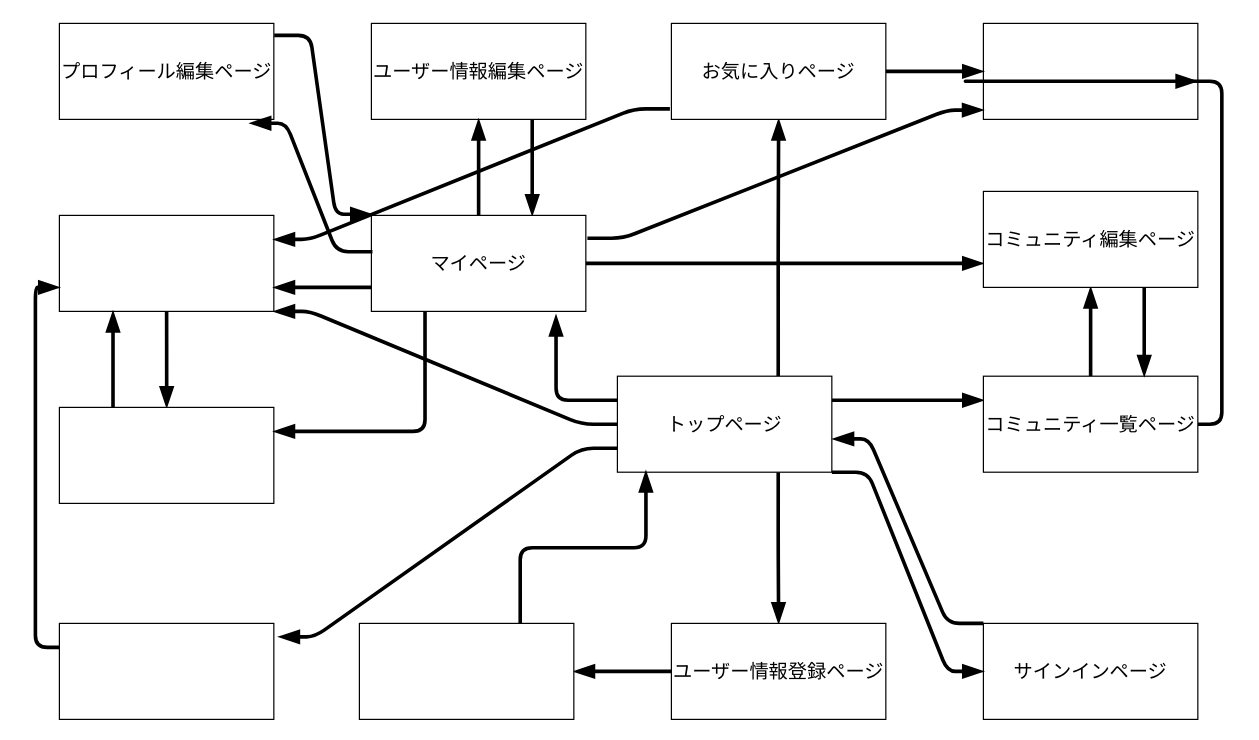
Some shapes in this 1259 by 740 pixel diagram are drawn without their labels. Here are the shapes that lost their labels. From the top down, the centre of each, then its label:
At (1090,70): "メッセージ一覧ページ".
At (166,262): "店舗情報詳細ページ".
At (166,454): "店舗情報編集ページ".
At (166,670): "店舗情報作成ページ".
At (466,670): "プロフィール登録ページ".
